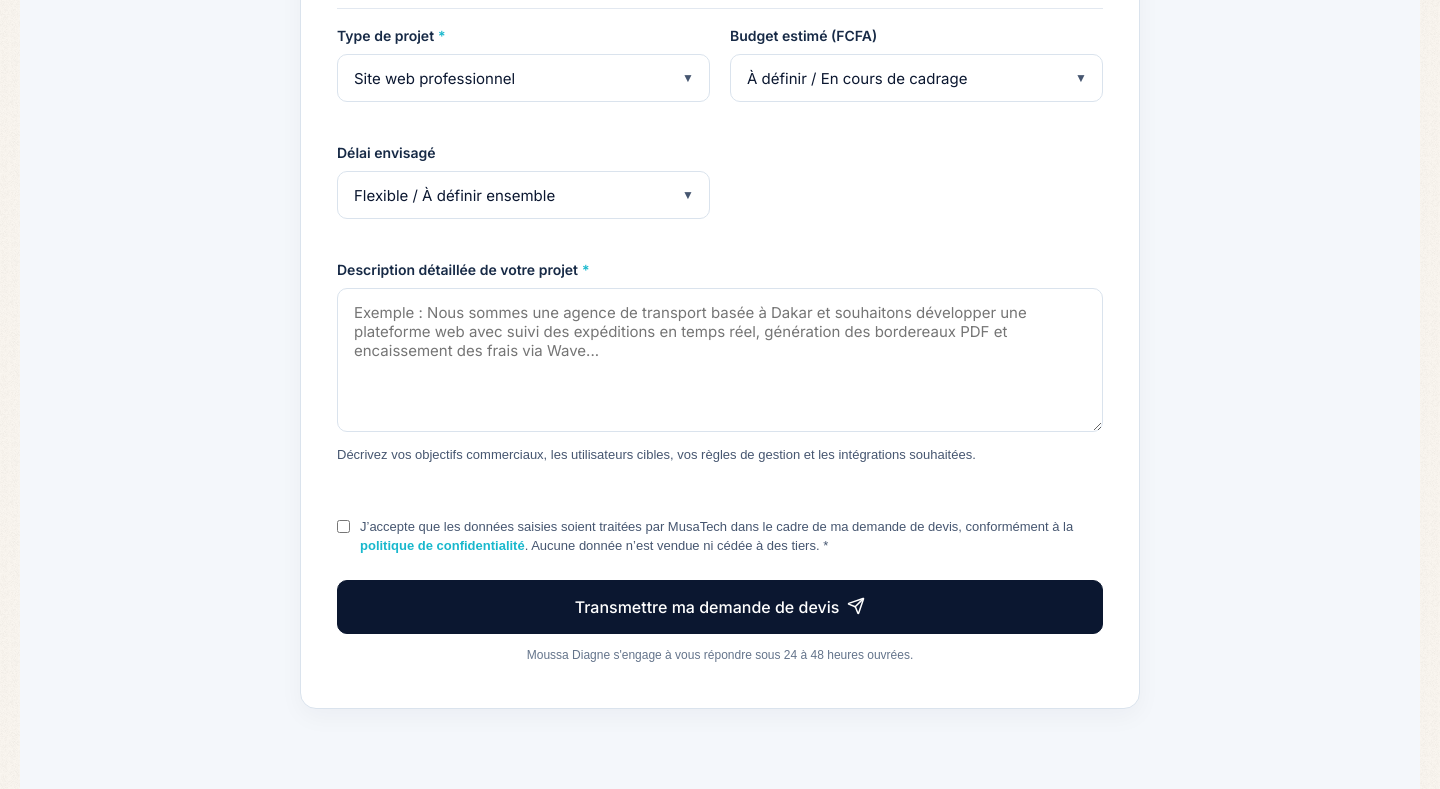
MusaTech B2B Quote Qualification Form (/devis) › Validation Zod (Données Invalides) › displays error messages when required fields are empty or invalid
The width and height of the screenshot is (1440, 789).
(page scrolled)
Click the button "Transmettre ma demande de devis" at (720, 607), box [337,580,1103,634]
(page scrolled)
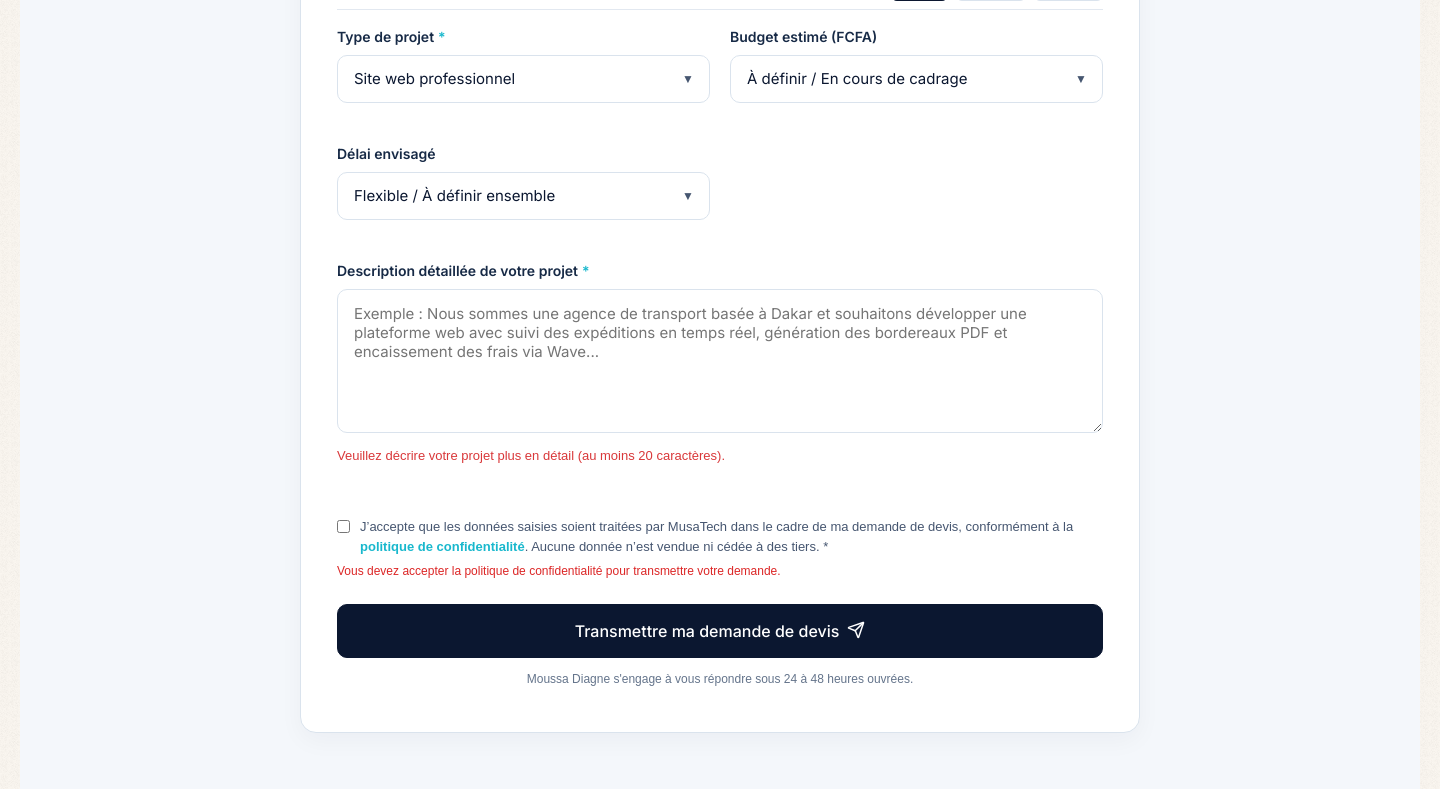
Now the text "Veuillez décrire votre projet plus en détail (au moins 20 caractères)." is shown, box [337,448,725,463]
Now the text "Vous devez accepter la politique de confidentialité" is shown, box [337,564,781,578]
